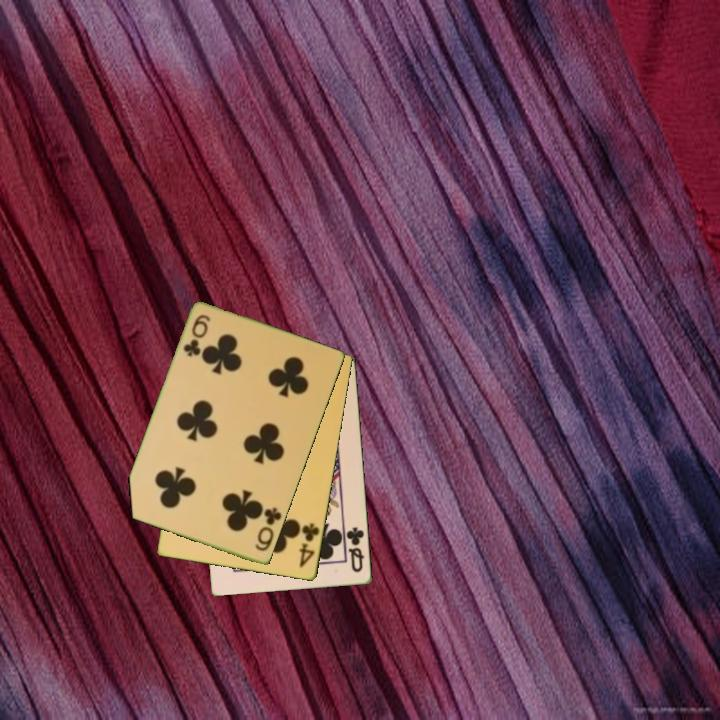4c: (296, 520, 323, 571)
6c: (252, 504, 285, 555), (180, 311, 214, 360)
Qc: (343, 524, 367, 576)
